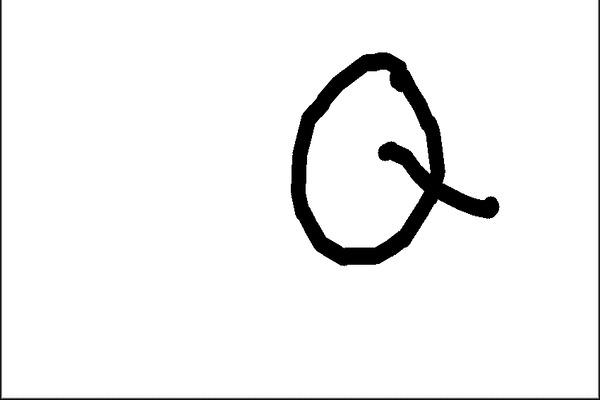Q: (273, 37, 510, 270)
